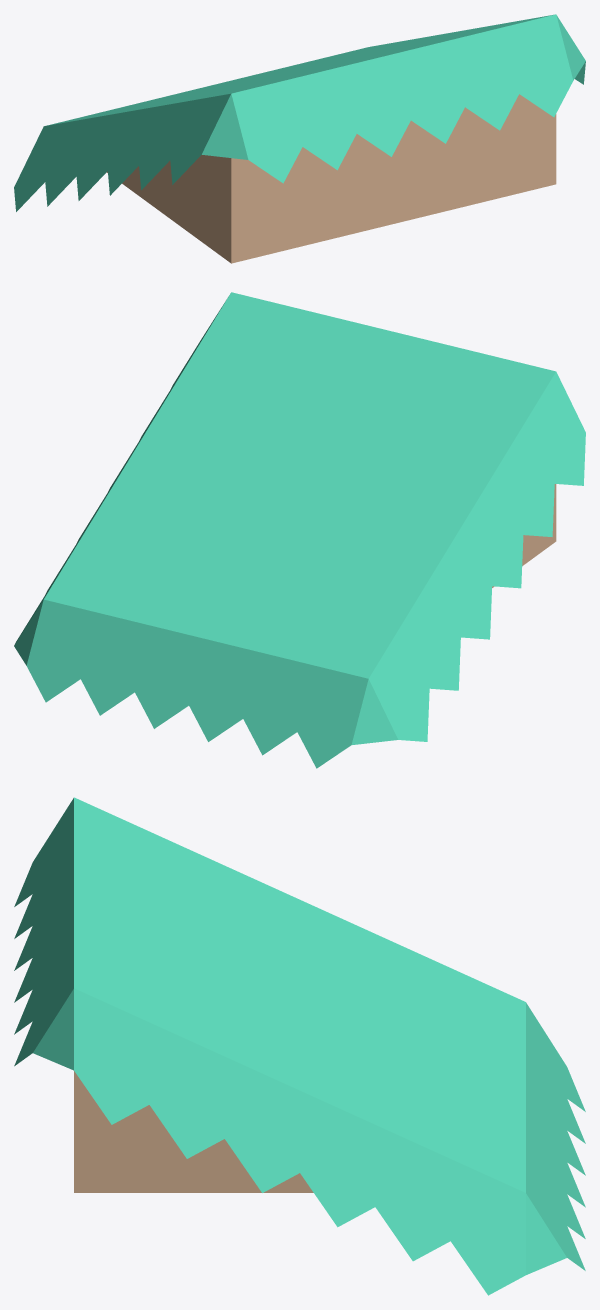
File: blockSlopeHalf.glb
The picture shows the model from 3 angles, top to bottom: view 1: azimuth 30°, elevation 25°; view 2: azimuth 150°, elevation 25°; view 3: azimuth 270°, elevation 25°; orthographic projection. The views are drawn at different scales.
Visible parts, largest first — view 1: blockSlopeHalf; view 2: blockSlopeHalf; view 3: blockSlopeHalf.
Boxes of the visible parts, x1,y1,x2,y2 form: blockSlopeHalf: (14, 14, 585, 263); blockSlopeHalf: (14, 292, 585, 768); blockSlopeHalf: (14, 797, 585, 1295).
Size of the model in its own units: 1.27 by 0.7304 by 1.27.
